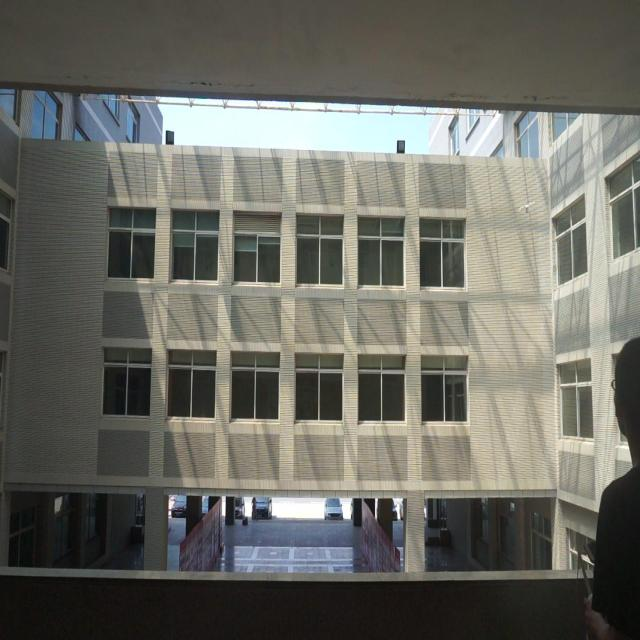drone: (518, 199, 535, 214)
